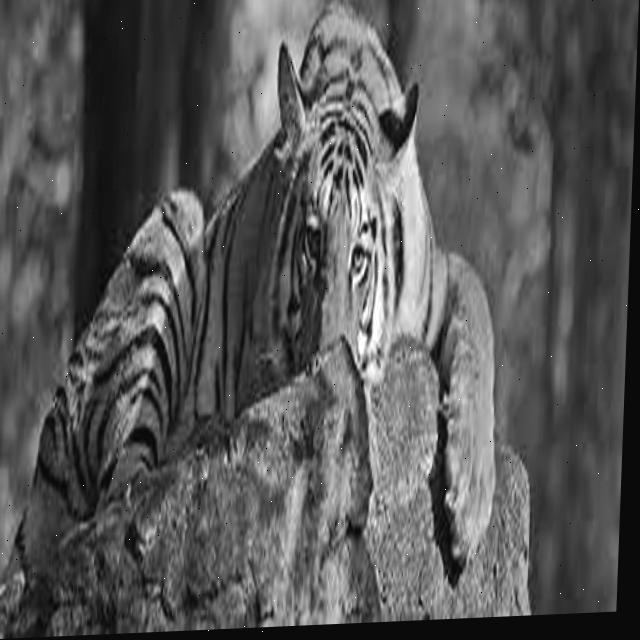Tiger: (0, 0, 567, 639)
